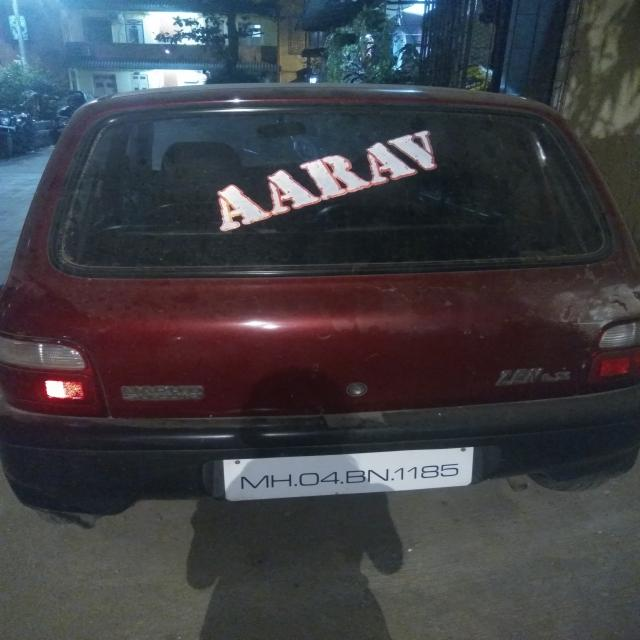Number-Plate: (226, 453, 473, 493)
